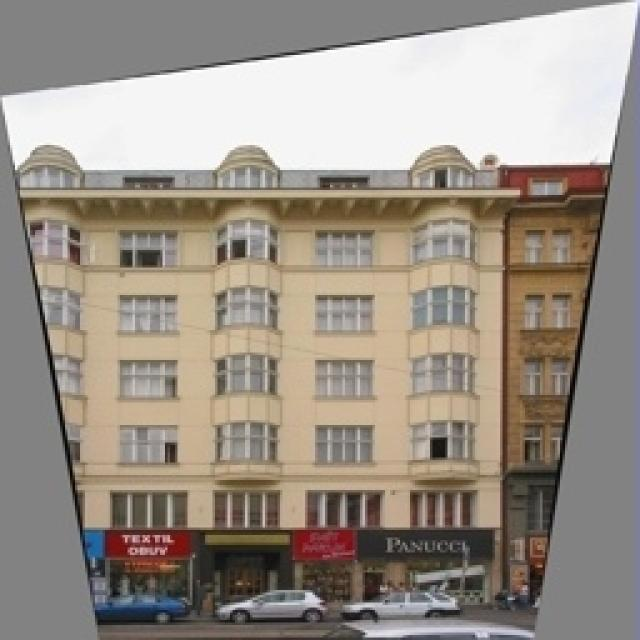building: (0, 142, 510, 628)
